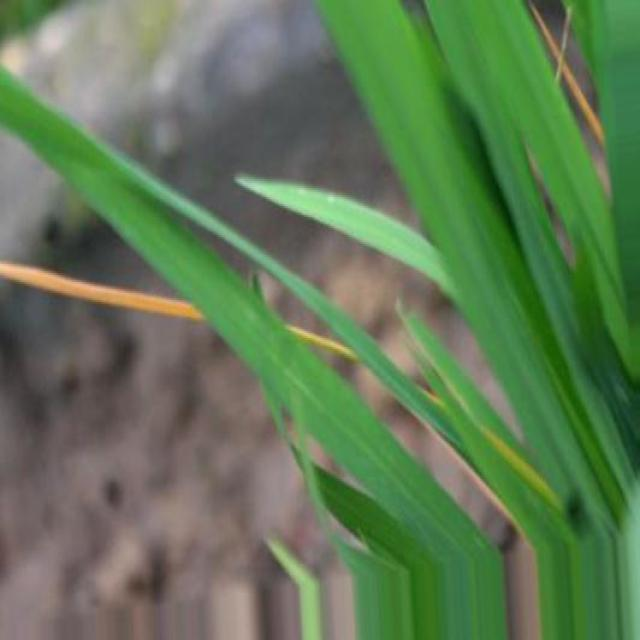Rice Tungro: (0, 262, 202, 320), (562, 60, 604, 146), (286, 326, 359, 362), (531, 0, 560, 63)
